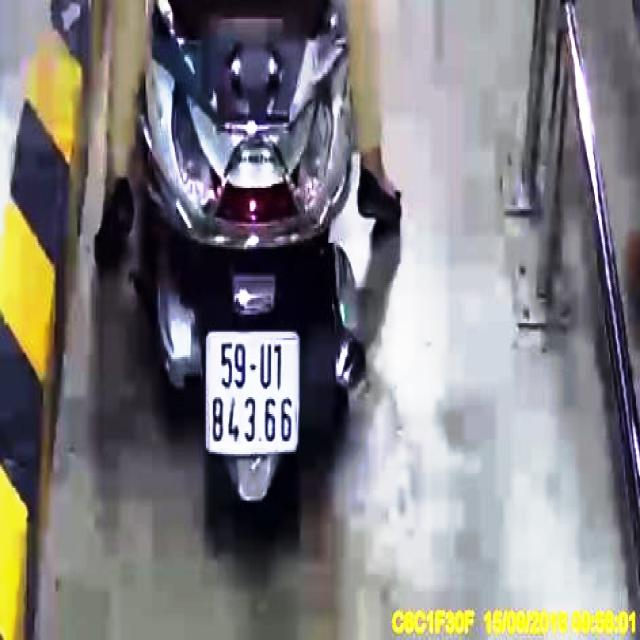license_plate: (208, 332, 299, 456)
